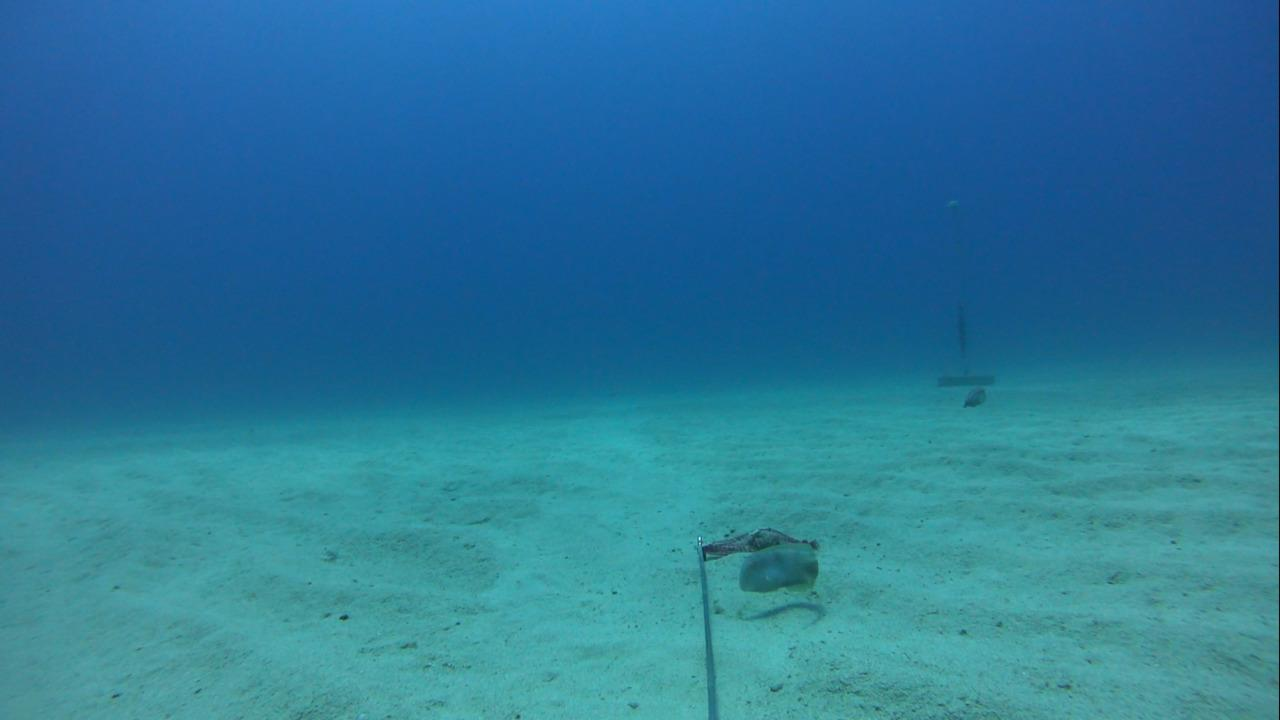raor: (732, 537, 829, 595), (951, 379, 991, 418)
